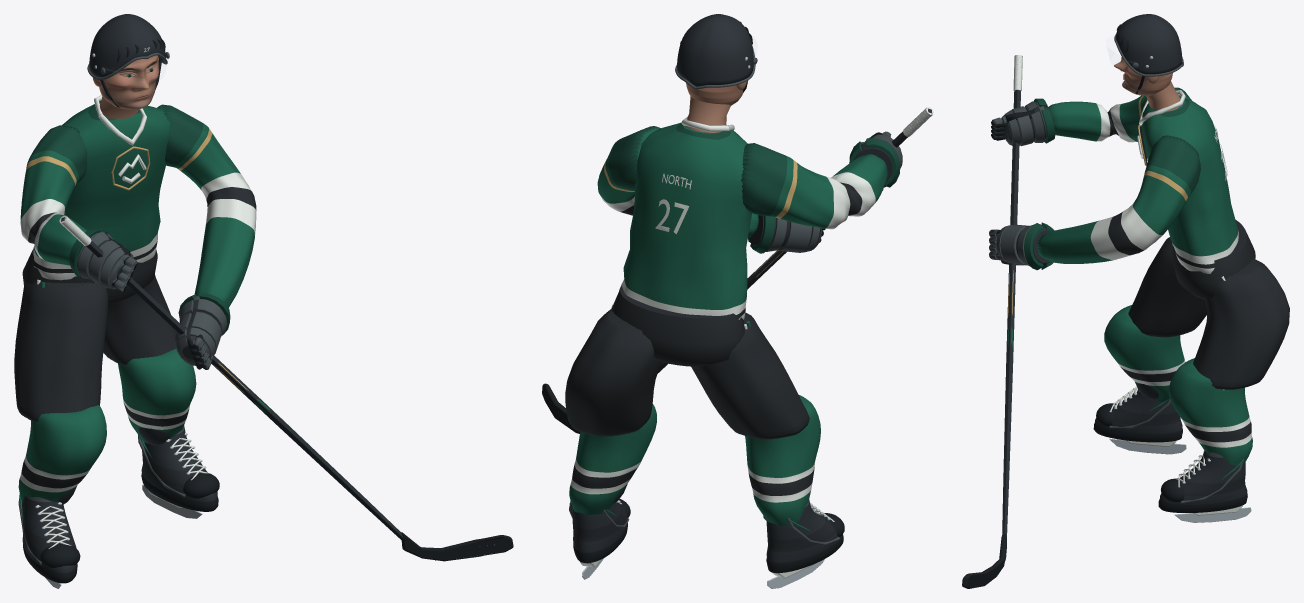
The model's file is skater-27.glb.
The picture shows the model from 3 angles, left to right: view 1: azimuth 30°, elevation 25°; view 2: azimuth 150°, elevation 25°; view 3: azimuth 270°, elevation 25°; orthographic projection. The views are drawn at different scales.
Visible parts, largest first — view 1: L | padded hockey pants, Jersey | draped torso and shoulder yoke, R | jersey sleeve over elbow and shoulder pads, L | jersey sleeve over elbow and shoulder pads, L | knit sock over knee and shin armor, R | knit sock over knee and shin armor, R | padded hockey pants, Helmet | contoured open-face shell, Stick | composite shaft, R | composite skate boot, L | composite skate boot, Head | shaped cheeks, jaw, nose and orbital anatomy (+5 smaller); view 2: Jersey | draped torso and shoulder yoke, R | padded hockey pants, L | jersey sleeve over elbow and shoulder pads, L | padded hockey pants, L | knit sock over knee and shin armor, Base layer | pelvic girdle, R | knit sock over knee and shin armor, Helmet | contoured open-face shell, R | jersey sleeve over elbow and shoulder pads, L | composite skate boot, R | composite skate boot, Neck | trapezius and throat (+7 smaller); view 3: R | jersey sleeve over elbow and shoulder pads, R | padded hockey pants, Jersey | draped torso and shoulder yoke, R | knit sock over knee and shin armor, L | padded hockey pants, L | knit sock over knee and shin armor, L | jersey sleeve over elbow and shoulder pads, Helmet | contoured open-face shell, Stick | composite shaft, R | composite skate boot, Base layer | pelvic girdle, L | composite skate boot (+10 smaller).
Part boxes in pixels (left/top/right/bottom): L | padded hockey pants: left=14, top=281, right=108, bottom=421; Jersey | draped torso and shoulder yoke: left=33, top=101, right=169, bottom=280; R | jersey sleeve over elbow and shoulder pads: left=157, top=104, right=256, bottom=307; L | jersey sleeve over elbow and shoulder pads: left=20, top=125, right=87, bottom=265; L | knit sock over knee and shin armor: left=18, top=405, right=106, bottom=502; R | knit sock over knee and shin armor: left=118, top=348, right=196, bottom=443; R | padded hockey pants: left=103, top=274, right=176, bottom=365; Helmet | contoured open-face shell: left=89, top=14, right=165, bottom=77; Stick | composite shaft: left=61, top=217, right=403, bottom=540; R | composite skate boot: left=141, top=425, right=217, bottom=501; L | composite skate boot: left=22, top=496, right=76, bottom=573; Head | shaped cheeks, jaw, nose and orbital anatomy: left=99, top=55, right=158, bottom=109; Jersey | draped torso and shoulder yoke: left=619, top=122, right=751, bottom=319; R | padded hockey pants: left=565, top=309, right=661, bottom=436; L | jersey sleeve over elbow and shoulder pads: left=741, top=143, right=887, bottom=229; L | padded hockey pants: left=691, top=312, right=809, bottom=439; L | knit sock over knee and shin armor: left=745, top=395, right=820, bottom=525; Base layer | pelvic girdle: left=611, top=286, right=744, bottom=366; R | knit sock over knee and shin armor: left=569, top=404, right=656, bottom=514; Helmet | contoured open-face shell: left=677, top=14, right=753, bottom=86; R | jersey sleeve over elbow and shoulder pads: left=597, top=126, right=758, bottom=238; L | composite skate boot: left=766, top=499, right=842, bottom=562; R | composite skate boot: left=572, top=502, right=627, bottom=552; Neck | trapezius and throat: left=686, top=96, right=730, bottom=132; R | jersey sleeve over elbow and shoulder pads: left=1037, top=135, right=1200, bottom=263; R | padded hockey pants: left=1193, top=258, right=1289, bottom=389; Jersey | draped torso and shoulder yoke: left=1141, top=96, right=1238, bottom=273; R | knit sock over knee and shin armor: left=1169, top=358, right=1252, bottom=465; L | padded hockey pants: left=1128, top=237, right=1207, bottom=337; L | knit sock over knee and shin armor: left=1104, top=305, right=1185, bottom=402; L | jersey sleeve over elbow and shoulder pads: left=1048, top=87, right=1191, bottom=142; Helmet | contoured open-face shell: left=1115, top=14, right=1182, bottom=74; Stick | composite shaft: left=1002, top=90, right=1020, bottom=540; R | composite skate boot: left=1160, top=451, right=1247, bottom=504; Base layer | pelvic girdle: left=1172, top=219, right=1255, bottom=299; L | composite skate boot: left=1095, top=389, right=1182, bottom=433.
Size of the model in its own units: 1.42 by 1.74 by 1.1.
